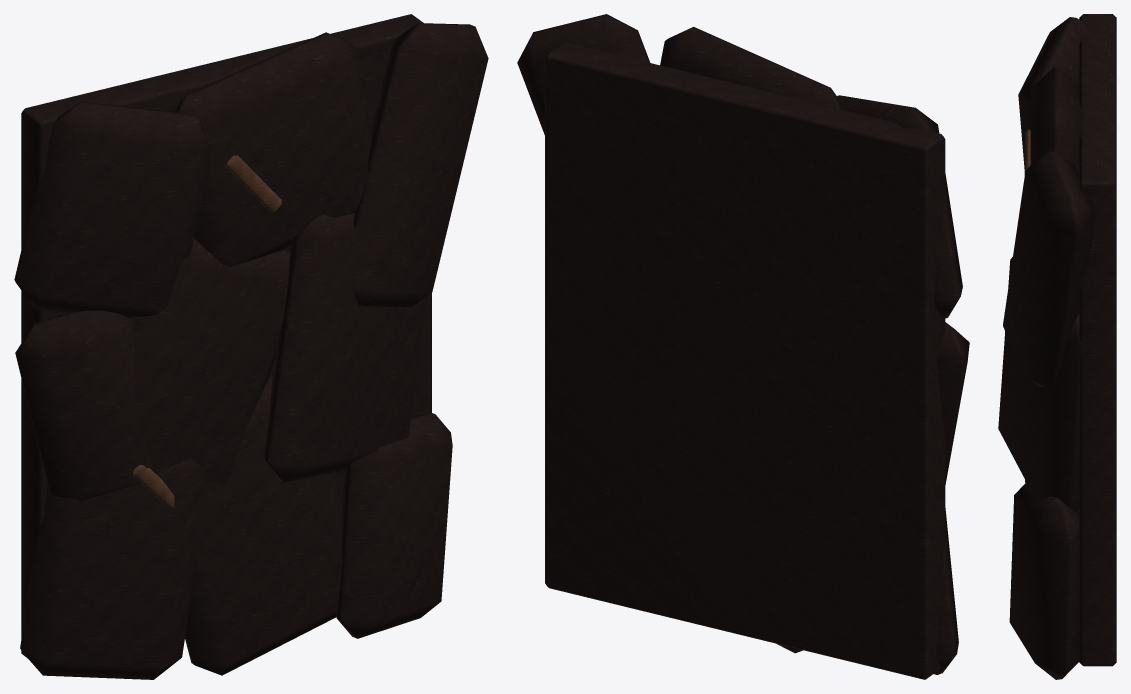
File: bedrock.glb
3 views of the same model, side by side, from view 1: azimuth 30°, elevation 25°; view 2: azimuth 150°, elevation 25°; view 3: azimuth 270°, elevation 25° (orthographic). The views are drawn at different scales.
Visible parts, largest first — view 1: bedrock - Volcanic basalt, bedrock - Burnished nickel; view 2: bedrock - Volcanic basalt; view 3: bedrock - Volcanic basalt, bedrock - Burnished nickel.
Boxes of the visible parts, bbox=[...] form: bedrock - Volcanic basalt: bbox=[14, 14, 488, 679]; bedrock - Burnished nickel: bbox=[133, 155, 281, 507]; bedrock - Volcanic basalt: bbox=[517, 14, 969, 679]; bedrock - Volcanic basalt: bbox=[998, 14, 1116, 679]; bedrock - Burnished nickel: bbox=[1024, 129, 1030, 175].
Size of the model in its own units: 7.12 by 9 by 1.78.
Materials: 2 (2 with a texture image).
